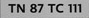character: (16, 3, 25, 13), (7, 3, 15, 13), (29, 3, 37, 13), (47, 3, 55, 13), (55, 3, 63, 13), (37, 3, 43, 13), (67, 3, 72, 13), (72, 3, 77, 13), (77, 3, 82, 13)
